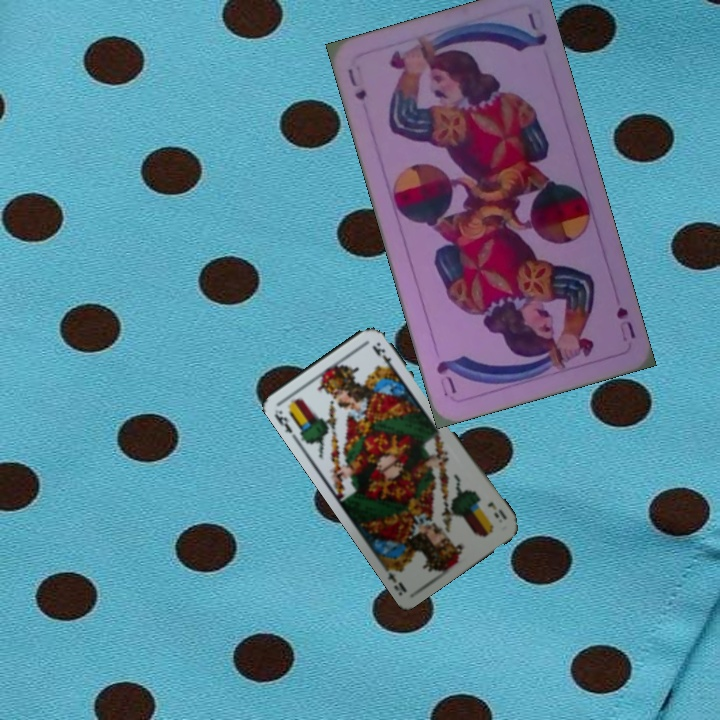EK: (270, 405, 295, 436), (483, 498, 509, 523)
SU: (343, 64, 369, 103), (612, 303, 638, 341)
